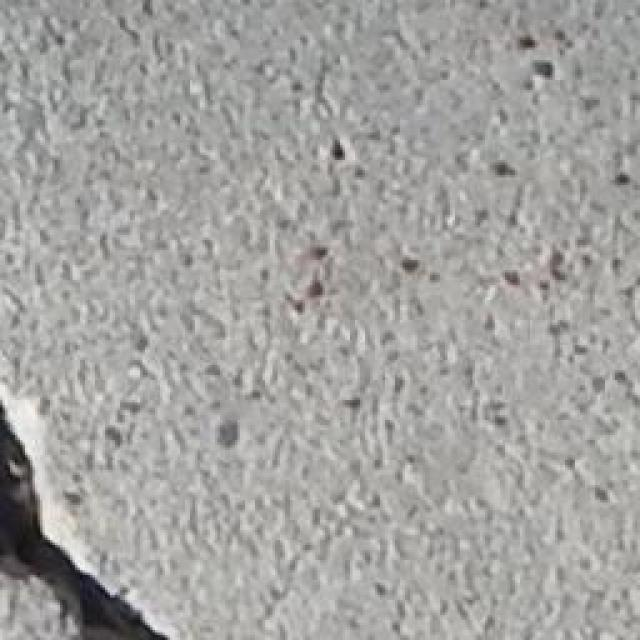concrete-crack: (0, 393, 177, 640)
